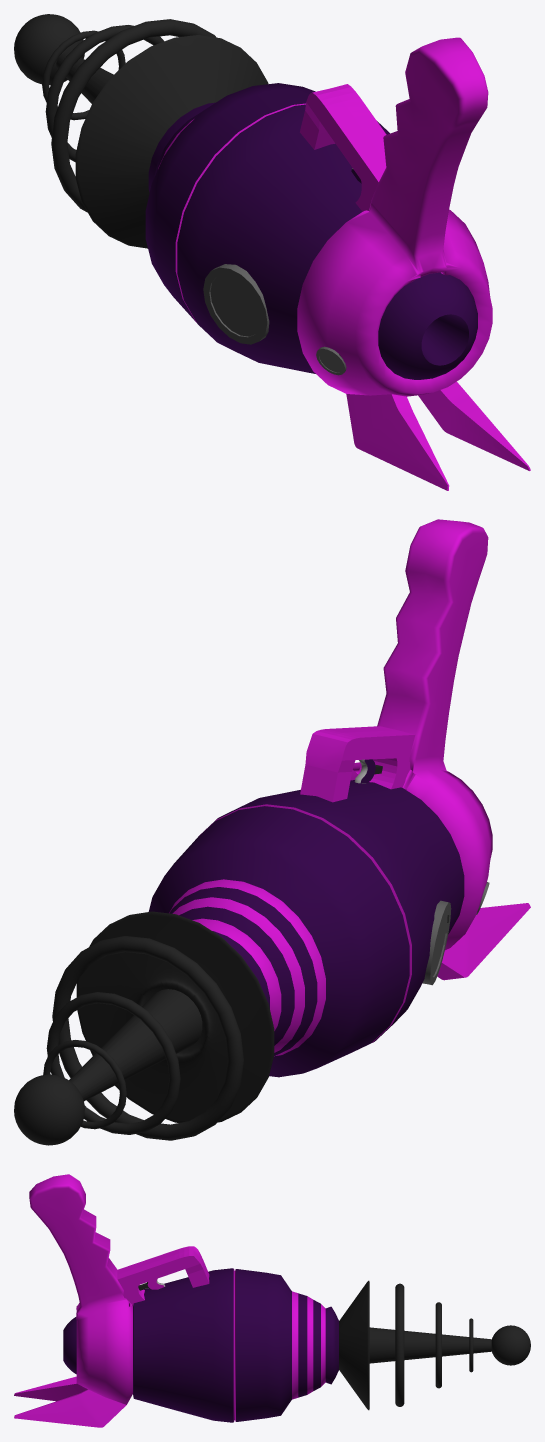
The model's file is RaygunExportar.fbx.
3 renders of one model, top to bottom at view 1: azimuth 30°, elevation 25°; view 2: azimuth 150°, elevation 25°; view 3: azimuth 270°, elevation 25°, orthographic. The views are drawn at different scales.
Visible parts, largest first — view 1: Raygun003; view 2: Raygun003; view 3: Raygun003.
Boxes of the visible parts, x1=… form: Raygun003: x1=14, y1=14, x2=530, y2=490; Raygun003: x1=14, y1=519, x2=530, y2=1145; Raygun003: x1=14, y1=1174, x2=530, y2=1427.
Size of the model in its own units: 9.07 by 15.55 by 30.55.
